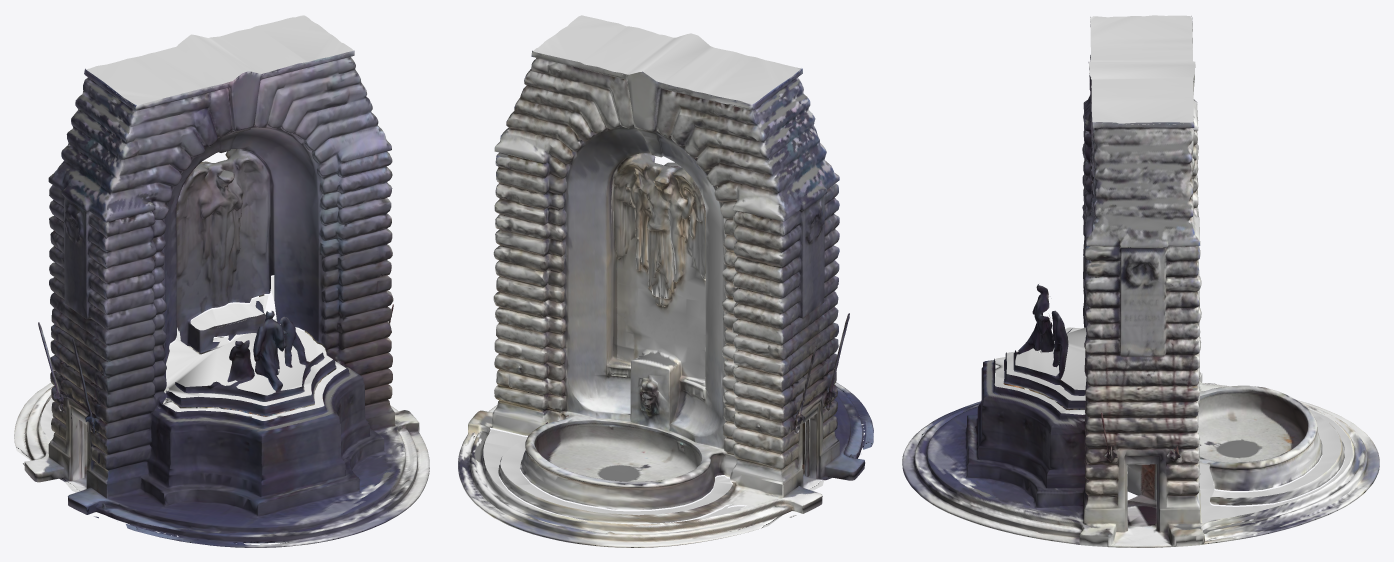
Rendered from CBD_Statue_Scan_HoloLens.glb.
3 renders of one model, left to right at view 1: azimuth 30°, elevation 25°; view 2: azimuth 150°, elevation 25°; view 3: azimuth 270°, elevation 25°, orthographic.
Visible parts, largest first — view 1: CBD_Statue_Scan_Re-registered.002_LOD1, CBD_Statue_Scan_Re-registered.003_LOD1; view 2: CBD_Statue_Scan_Re-registered.002_LOD1, CBD_Statue_Scan_Re-registered.003_LOD1; view 3: CBD_Statue_Scan_Re-registered.002_LOD1, CBD_Statue_Scan_Re-registered.003_LOD1.
Boxes of the visible parts, bbox=[...] form: CBD_Statue_Scan_Re-registered.002_LOD1: bbox=[14, 50, 429, 547]; CBD_Statue_Scan_Re-registered.003_LOD1: bbox=[40, 15, 353, 438]; CBD_Statue_Scan_Re-registered.002_LOD1: bbox=[458, 50, 873, 547]; CBD_Statue_Scan_Re-registered.003_LOD1: bbox=[483, 15, 800, 519]; CBD_Statue_Scan_Re-registered.002_LOD1: bbox=[902, 16, 1379, 547]; CBD_Statue_Scan_Re-registered.003_LOD1: bbox=[995, 15, 1352, 523].
Bounding box in the file's own units: 12.37 × 13.71 × 14.8.
2 materials, 1 textured.
